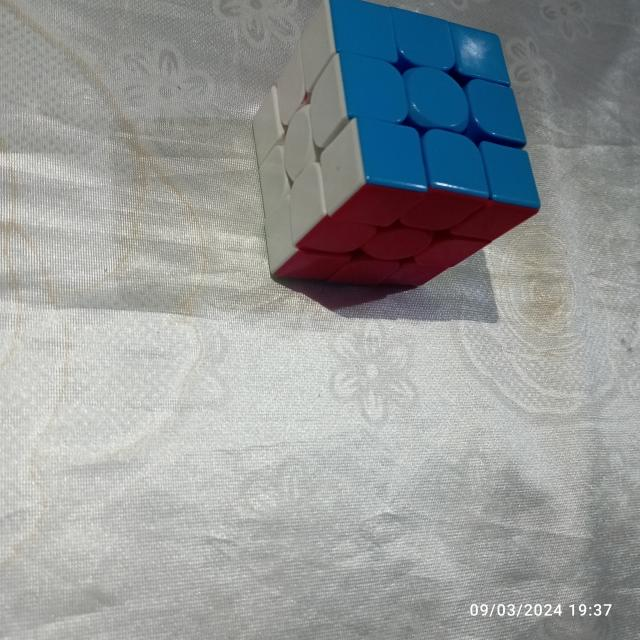Rub: (248, 0, 544, 301)
